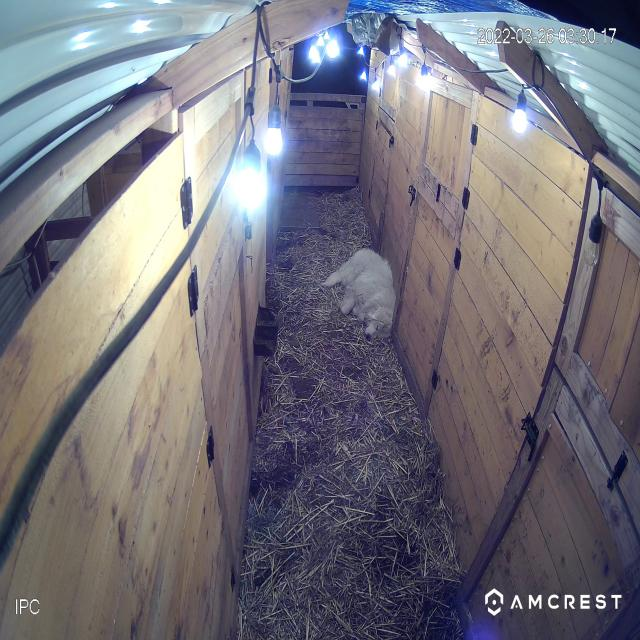gaurd dog: (318, 240, 406, 358)
